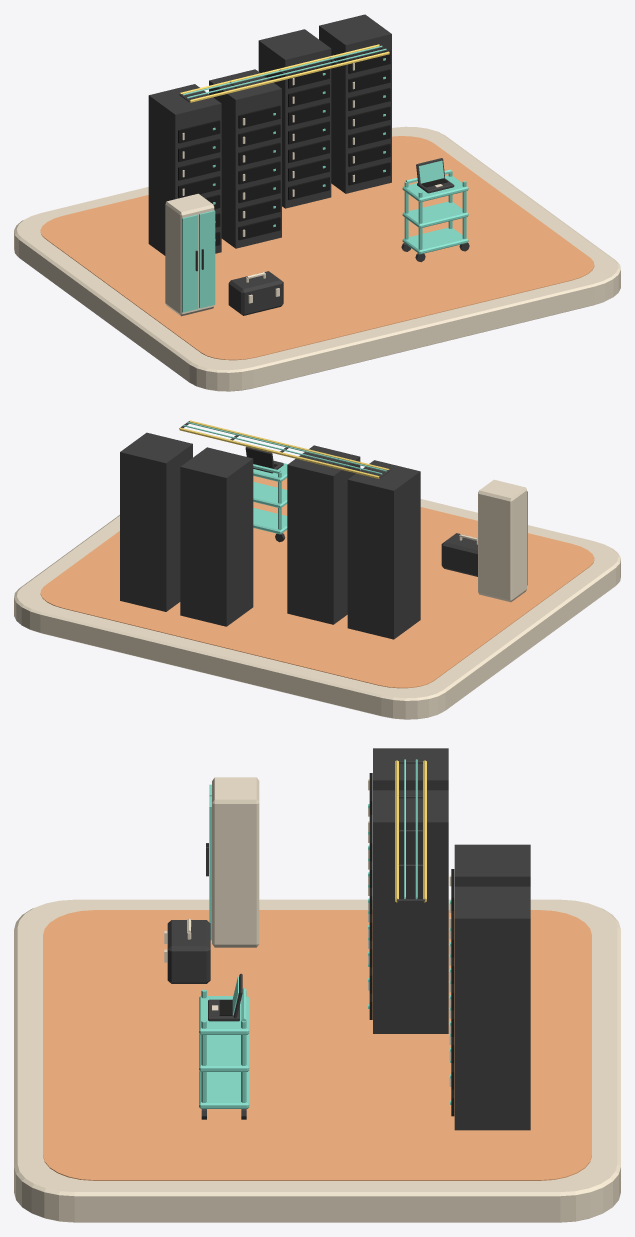
Rendered from room.fbx.
The picture shows the model from 3 angles, top to bottom: view 1: azimuth 30°, elevation 25°; view 2: azimuth 150°, elevation 25°; view 3: azimuth 270°, elevation 25°; orthographic projection. The views are drawn at different scales.
Parts seen in each view (by area): view 1: COM-02 Floor Surface, COM-01 Rounded Base Direct, Server case, Server case.003, Server case.001, Server case.002, Equipment case, Case, Door, Door.001, Tray, Tray.001 (+26 smaller); view 2: COM-02 Floor Surface, COM-01 Rounded Base Direct, Server case.002, Server case, Server case.003, Server case.001, Equipment case, Case, Cable rail.001, Tray, Tray.001, Cable rail (+3 smaller); view 3: COM-02 Floor Surface, COM-01 Rounded Base Direct, Server case.003, Server case.001, Equipment case, Server case.002, Server case, Case, Tray.001, Tray, Tray.002.
Part boxes in pixels (x1=…): COM-02 Floor Surface: x1=40, y1=136, x2=594, y2=360; COM-01 Rounded Base Direct: x1=14, y1=126, x2=620, y2=391; Server case: x1=148, y1=84, x2=221, y2=255; Server case.003: x1=319, y1=14, x2=391, y2=193; Server case.001: x1=209, y1=69, x2=281, y2=248; Server case.002: x1=258, y1=29, x2=331, y2=208; Equipment case: x1=165, y1=193, x2=214, y2=316; Case: x1=228, y1=271, x2=283, y2=315; Door: x1=182, y1=214, x2=198, y2=312; Door.001: x1=199, y1=210, x2=215, y2=308; Tray: x1=402, y1=227, x2=468, y2=254; Tray.001: x1=402, y1=201, x2=468, y2=228; COM-02 Floor Surface: x1=40, y1=476, x2=594, y2=688; COM-01 Rounded Base Direct: x1=14, y1=456, x2=620, y2=719; Server case.002: x1=180, y1=447, x2=253, y2=626; Server case: x1=347, y1=460, x2=420, y2=639; Server case.003: x1=120, y1=432, x2=192, y2=611; Server case.001: x1=287, y1=445, x2=360, y2=624; Equipment case: x1=478, y1=479, x2=526, y2=602; Case: x1=441, y1=533, x2=477, y2=576; Cable rail.001: x1=179, y1=427, x2=379, y2=478; Tray: x1=253, y1=508, x2=287, y2=534; Tray.001: x1=253, y1=482, x2=287, y2=508; Cable rail: x1=189, y1=420, x2=389, y2=470; COM-02 Floor Surface: x1=43, y1=910, x2=591, y2=1180; COM-01 Rounded Base Direct: x1=14, y1=899, x2=620, y2=1222; Server case.003: x1=454, y1=886, x2=530, y2=1130; Server case.001: x1=373, y1=790, x2=448, y2=1033; Equipment case: x1=212, y1=777, x2=259, y2=947; Server case.002: x1=454, y1=844, x2=530, y2=886; Server case: x1=373, y1=748, x2=448, y2=790; Case: x1=167, y1=920, x2=210, y2=983; Tray.001: x1=199, y1=1034, x2=249, y2=1071; Tray: x1=199, y1=1071, x2=249, y2=1108; Tray.002: x1=199, y1=996, x2=249, y2=1034.
Size of the model in its own units: 600 by 235 by 520.
